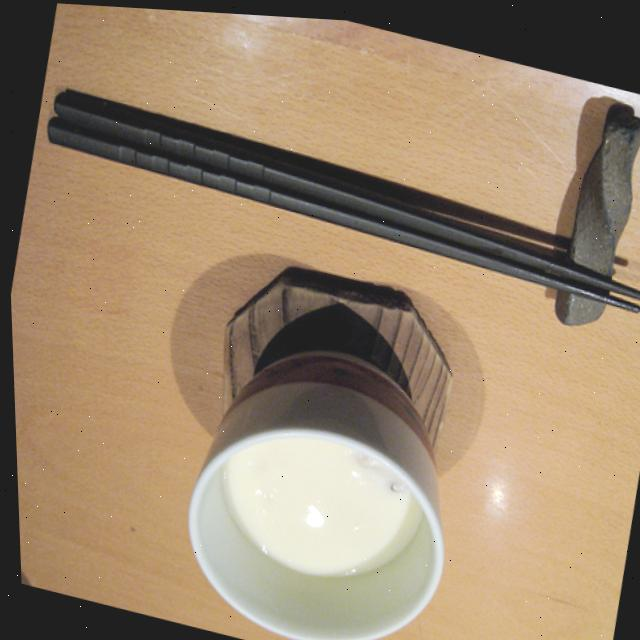鸡蛋料理: (158, 285, 458, 640)
